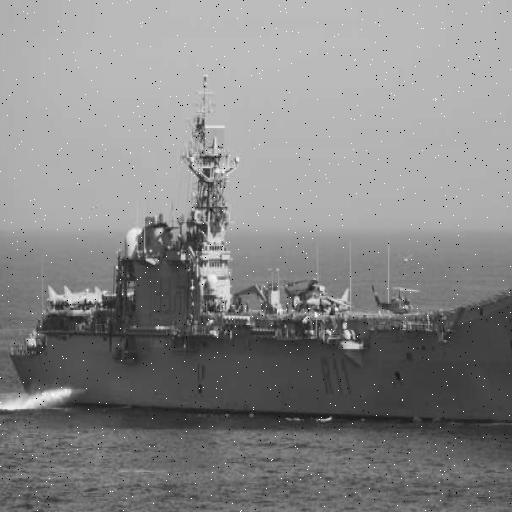Portanaves: (13, 67, 512, 433)
